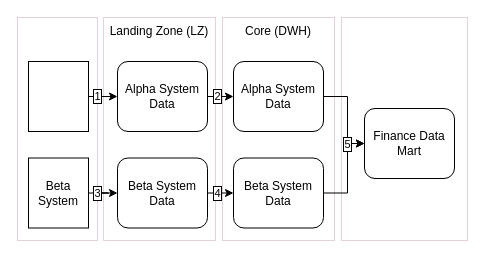
This 485x258 diagram has some shape labels left out. Each missing label, with the box of its shape:
Alpha System: (28, 60, 88, 132)
Data Marts (DM): (340, 16, 468, 240)
Source Systems: (16, 16, 98, 240)
